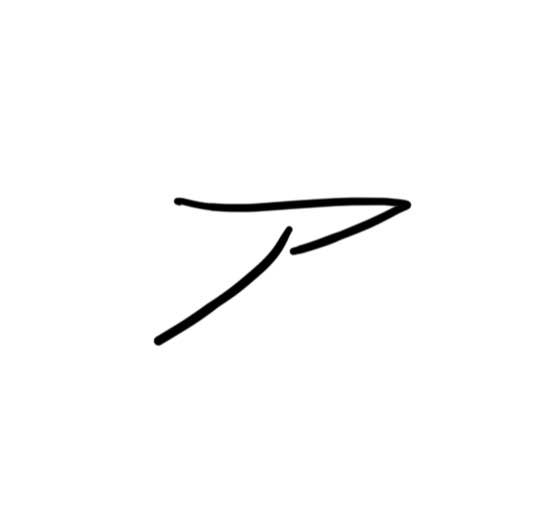a: (138, 180, 422, 357)
